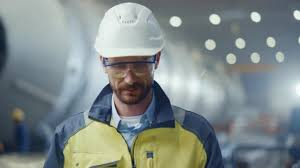Person_wearing_helmet: (93, 0, 165, 71)
